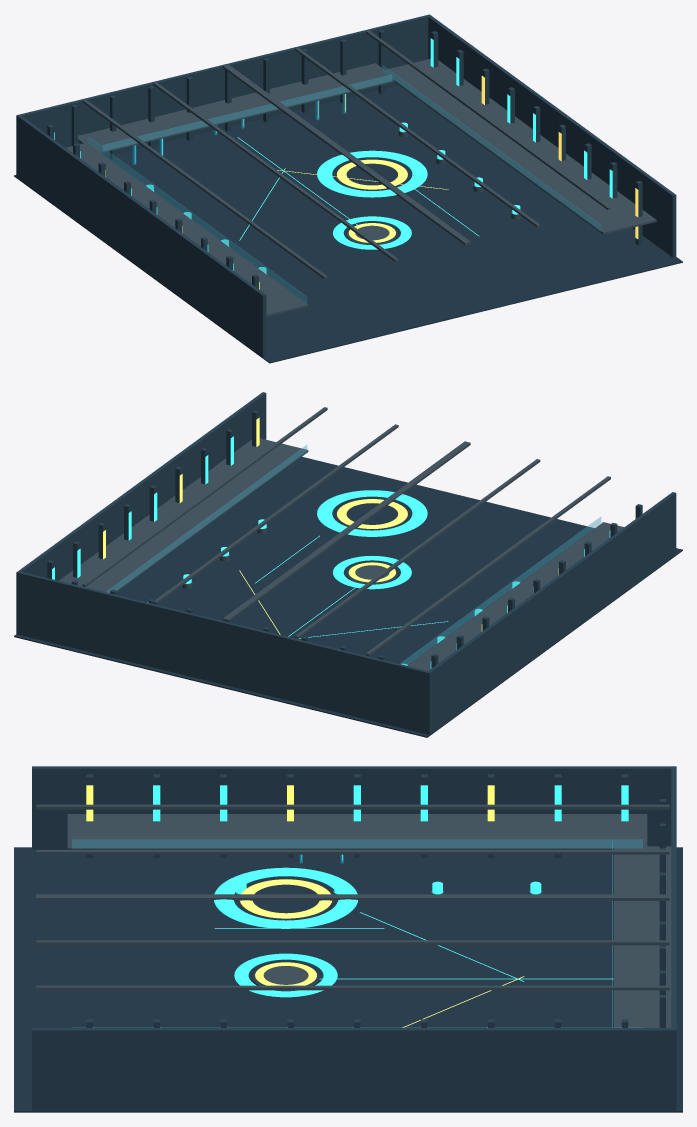
Rendered from orgintel-headquarters-atrium-graybox.glb.
3 views of the same model, one above another, from view 1: azimuth 30°, elevation 25°; view 2: azimuth 150°, elevation 25°; view 3: azimuth 270°, elevation 25° (orthographic). The views are drawn at different scales.
Parts seen in each view (by area): view 1: ATRIUM_Floor, ATRIUM_LeftWall, ATRIUM_BackWall, BALCONY_Right_Deck, ATRIUM_RightWall, BALCONY_Back_Deck, BALCONY_Left_Deck, CEILING_Spine, CEILING_CoreRing_Outer, BALCONY_Back_GlassRail, BALCONY_Left_GlassRail, BALCONY_Right_GlassRail (+6 smaller); view 2: ATRIUM_Floor, ATRIUM_BackWall, ATRIUM_LeftWall, BALCONY_Right_Deck, ATRIUM_RightWall, BALCONY_Left_Deck, CEILING_Spine, CEILING_CoreRing_Outer, BALCONY_Left_GlassRail, BALCONY_Right_GlassRail, CEILING_Beam_-24, CEILING_Beam_24 (+4 smaller); view 3: ATRIUM_Floor, ATRIUM_RightWall, ATRIUM_LeftWall, BALCONY_Left_Deck, BALCONY_Back_Deck, BALCONY_Left_GlassRail, CEILING_Spine, CEILING_Beam_-48, CEILING_Beam_24, CEILING_Beam_48, CEILING_CoreRing_Outer, CEILING_Beam_-24 (+6 smaller).
Boxes of the visible parts, bbox=[...] form: ATRIUM_Floor: bbox=[14, 85, 682, 363]; ATRIUM_LeftWall: bbox=[17, 115, 266, 357]; ATRIUM_BackWall: bbox=[16, 14, 431, 177]; BALCONY_Right_Deck: bbox=[382, 59, 656, 234]; ATRIUM_RightWall: bbox=[428, 16, 676, 257]; BALCONY_Back_Deck: bbox=[78, 63, 394, 153]; BALCONY_Left_Deck: bbox=[66, 142, 308, 316]; CEILING_Spine: bbox=[222, 64, 470, 244]; CEILING_CoreRing_Outer: bbox=[317, 150, 427, 197]; BALCONY_Back_GlassRail: bbox=[103, 74, 391, 151]; BALCONY_Left_GlassRail: bbox=[89, 137, 306, 302]; BALCONY_Right_GlassRail: bbox=[383, 65, 600, 231]; ATRIUM_Floor: bbox=[14, 457, 682, 737]; ATRIUM_BackWall: bbox=[16, 571, 431, 734]; ATRIUM_LeftWall: bbox=[428, 492, 676, 733]; BALCONY_Right_Deck: bbox=[59, 438, 308, 592]; ATRIUM_RightWall: bbox=[19, 392, 266, 580]; BALCONY_Left_Deck: bbox=[407, 522, 624, 670]; CEILING_Spine: bbox=[222, 441, 470, 621]; CEILING_CoreRing_Outer: bbox=[317, 490, 427, 536]; BALCONY_Left_GlassRail: bbox=[400, 517, 600, 665]; BALCONY_Right_GlassRail: bbox=[106, 445, 306, 592]; CEILING_Beam_-24: bbox=[295, 459, 540, 638]; CEILING_Beam_24: bbox=[153, 424, 398, 604]; ATRIUM_Floor: bbox=[14, 847, 682, 1112]; ATRIUM_RightWall: bbox=[32, 1028, 673, 1110]; ATRIUM_LeftWall: bbox=[32, 766, 673, 849]; BALCONY_Left_Deck: bbox=[67, 814, 647, 849]; BALCONY_Back_Deck: bbox=[614, 846, 671, 1027]; BALCONY_Left_GlassRail: bbox=[72, 839, 642, 848]; CEILING_Spine: bbox=[36, 894, 669, 900]; CEILING_Beam_-48: bbox=[36, 804, 669, 809]; CEILING_Beam_24: bbox=[36, 940, 669, 945]; CEILING_Beam_48: bbox=[36, 985, 669, 990]; CEILING_CoreRing_Outer: bbox=[214, 867, 357, 928]; CEILING_Beam_-24: bbox=[36, 850, 669, 854].
Bounding box in the file's own units: 140 × 20.91 × 150.
